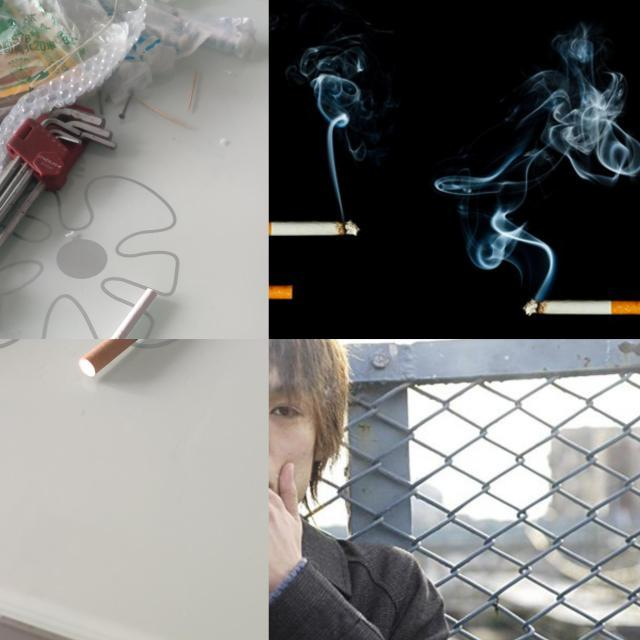smoking: (78, 339, 209, 379), (76, 288, 158, 339), (522, 299, 640, 316), (268, 220, 359, 238)
